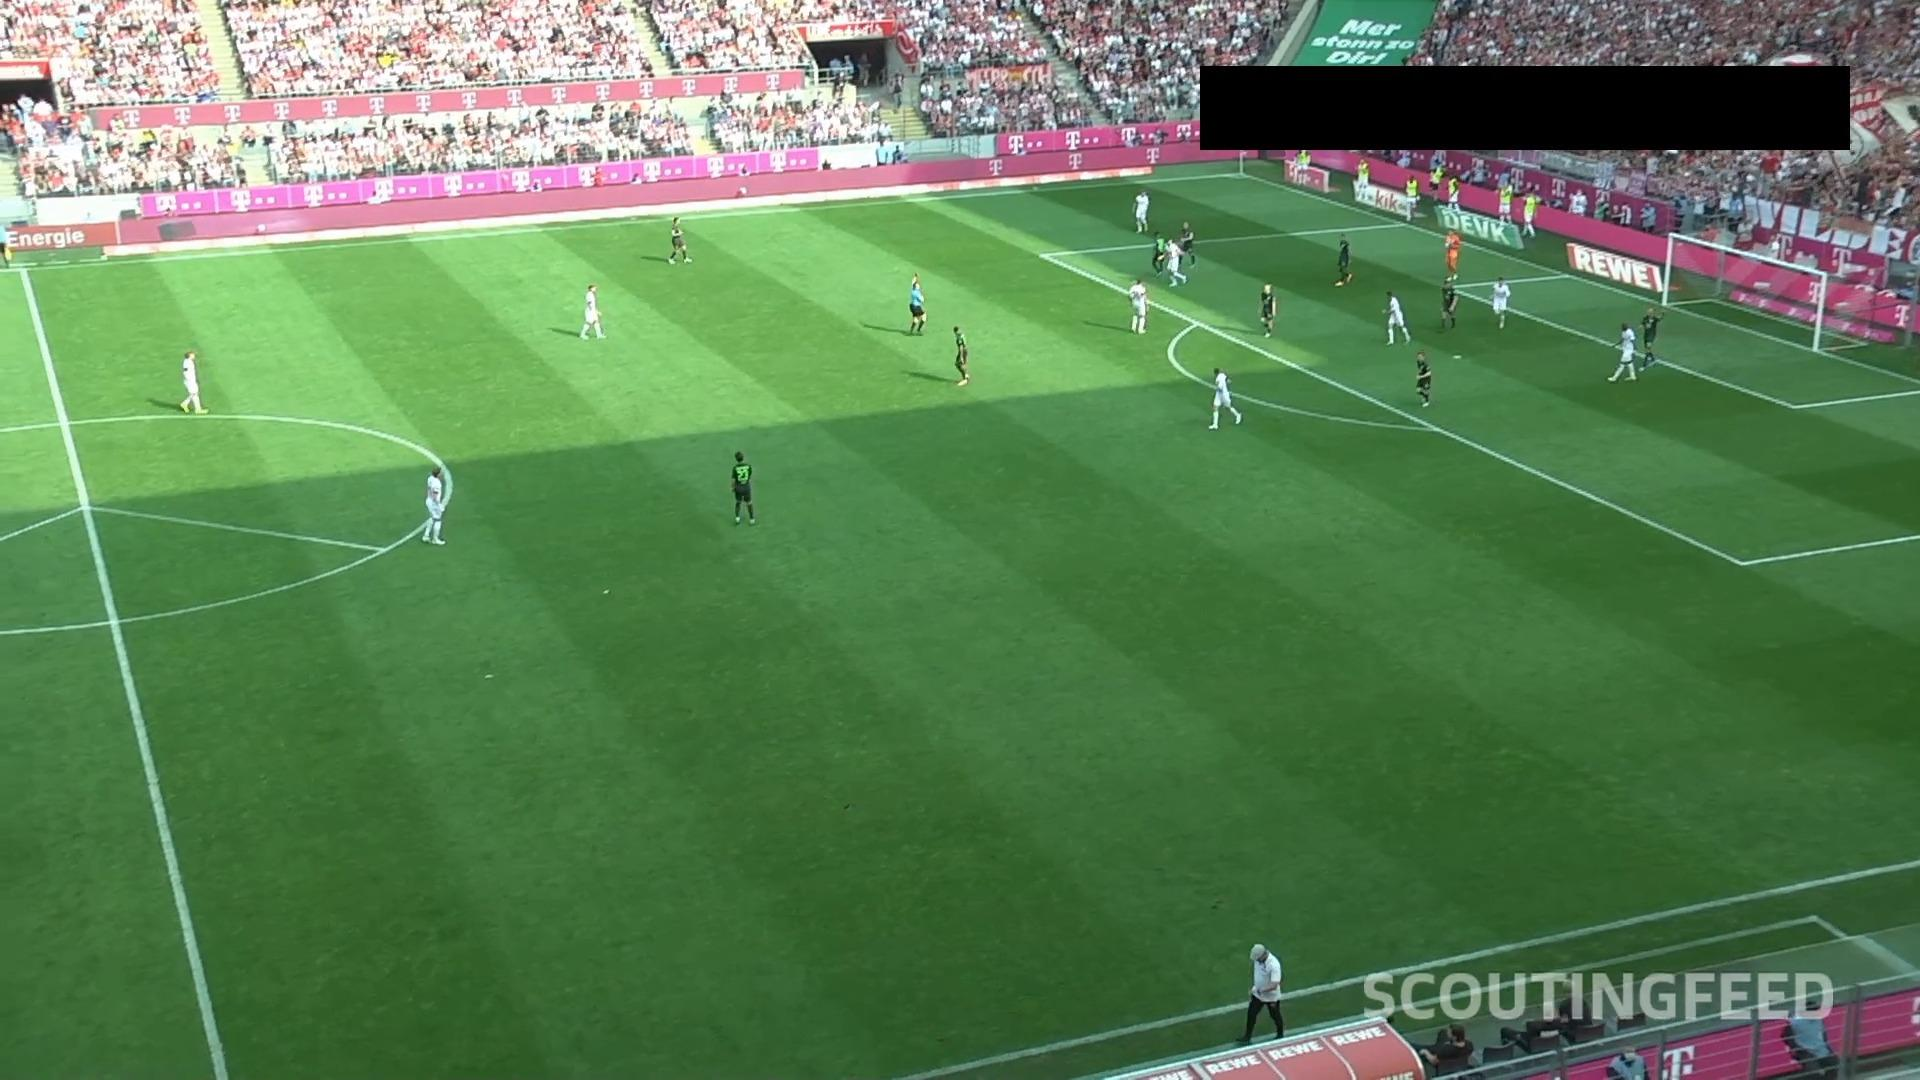ball: (1443, 240, 1451, 249)
